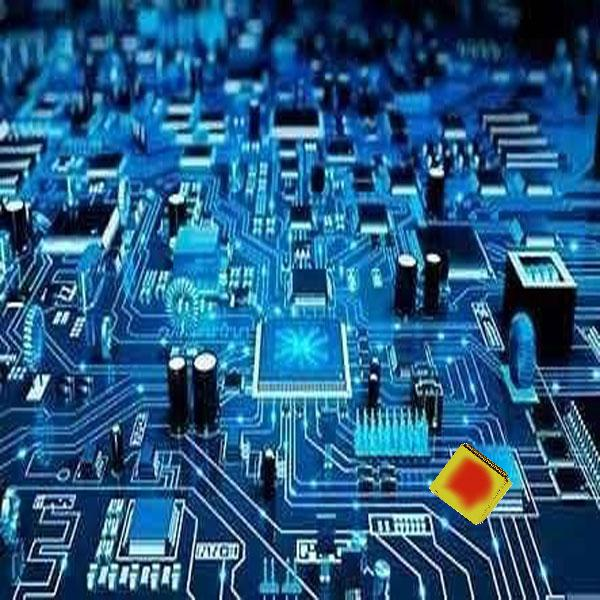componente_T: (426, 440, 515, 527)
